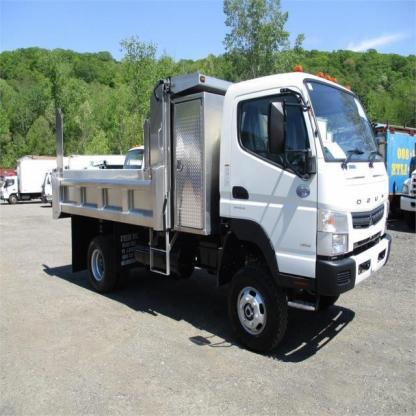truck: (54, 76, 392, 346), (4, 146, 58, 208)
